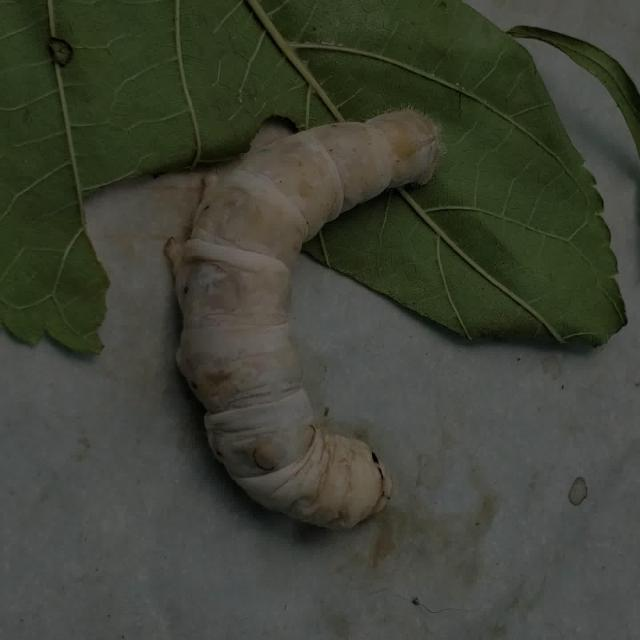Grasserie: (153, 95, 454, 552)
